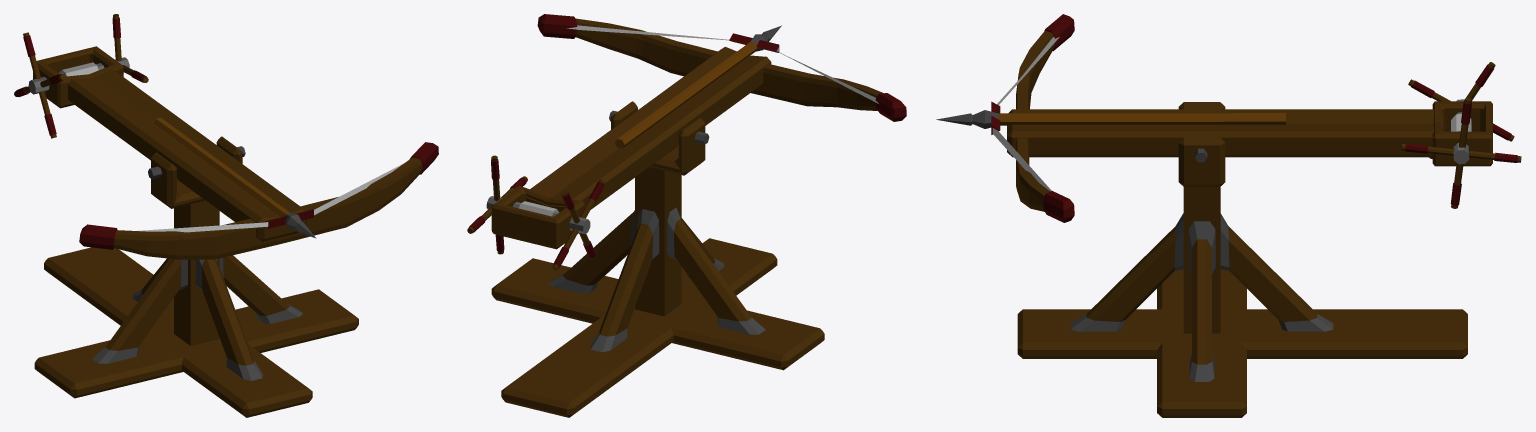
File: Ballista.fbx
The picture shows the model from 3 angles, left to right: view 1: azimuth 30°, elevation 25°; view 2: azimuth 150°, elevation 25°; view 3: azimuth 270°, elevation 25°; orthographic projection. The views are drawn at different scales.
Parts seen in each view (by area): view 1: Ballista_Foot, Ballista_Rope, Ballista_Charging, Ballista_Arrow; view 2: Ballista_Foot, Ballista_Rope, Ballista_Charging, Ballista_Arrow; view 3: Ballista_Foot, Ballista_Rope, Ballista_Arrow, Ballista_Charging.
Part boxes in pixels (x1,y1,x2,y2): Ballista_Foot: (34, 136, 358, 417); Ballista_Rope: (33, 46, 438, 259); Ballista_Charging: (14, 14, 148, 138); Ballista_Arrow: (153, 117, 316, 238); Ballista_Foot: (491, 101, 824, 417); Ballista_Rope: (491, 14, 906, 249); Ballista_Charging: (467, 155, 605, 270); Ballista_Arrow: (615, 25, 781, 148); Ballista_Foot: (1017, 102, 1467, 417); Ballista_Rope: (991, 14, 1492, 222); Ballista_Arrow: (936, 110, 1285, 128); Ballista_Charging: (1401, 62, 1521, 208).
Bounding box in the file's own units: 256 × 162 × 325.
